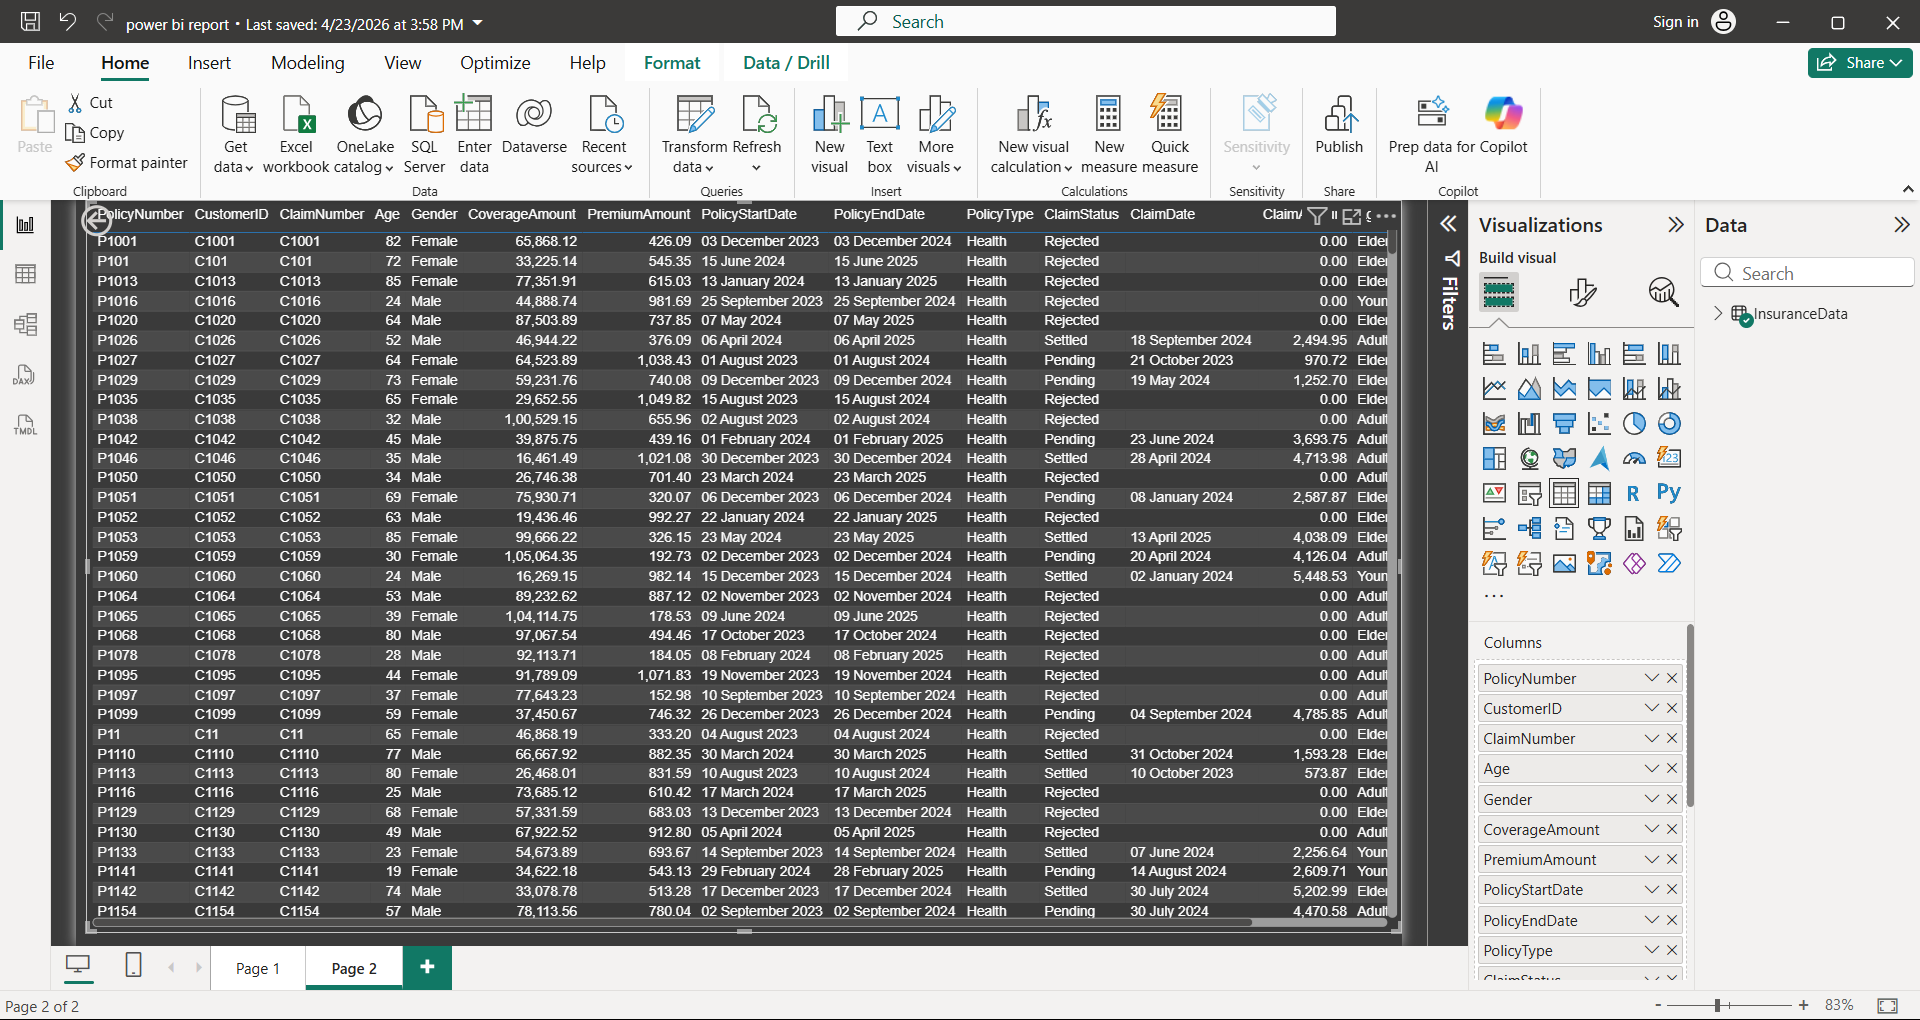

The dashboard page shown, as its layout file describes it:
{"tool":"powerbi","page":{"name":"Data table view","canvas":[1280,720],"ordinal":1},"visuals":[{"type":"tableEx","fields":{"Values":["InsuranceData.PolicyNumber","InsuranceData.CustomerID","InsuranceData.ClaimNumber","InsuranceData.Age","InsuranceData.Gender","InsuranceData.CoverageAmount","InsuranceData.PremiumAmount","InsuranceData.PolicyStartDate","InsuranceData.PolicyEndDate","InsuranceData.PolicyType","InsuranceData.ClaimStatus","InsuranceData.ClaimDate"]},"box":[9.6,0,1135.1,610.6],"z":0},{"type":"actionButton","box":[0,0,100,40],"z":1000}]}

Visuals, with their boxes on the page's 1280x720 design canvas (x1, y1, x2, y2). These are canvas units, not pixel positions in the 1920x1020 screenshot, which may show the page scaled, cropped or inside an application window:
tableEx - InsuranceData.PolicyNumber x InsuranceData.CustomerID: Rect(10, 0, 1145, 611)
actionButton: Rect(0, 0, 100, 40)
